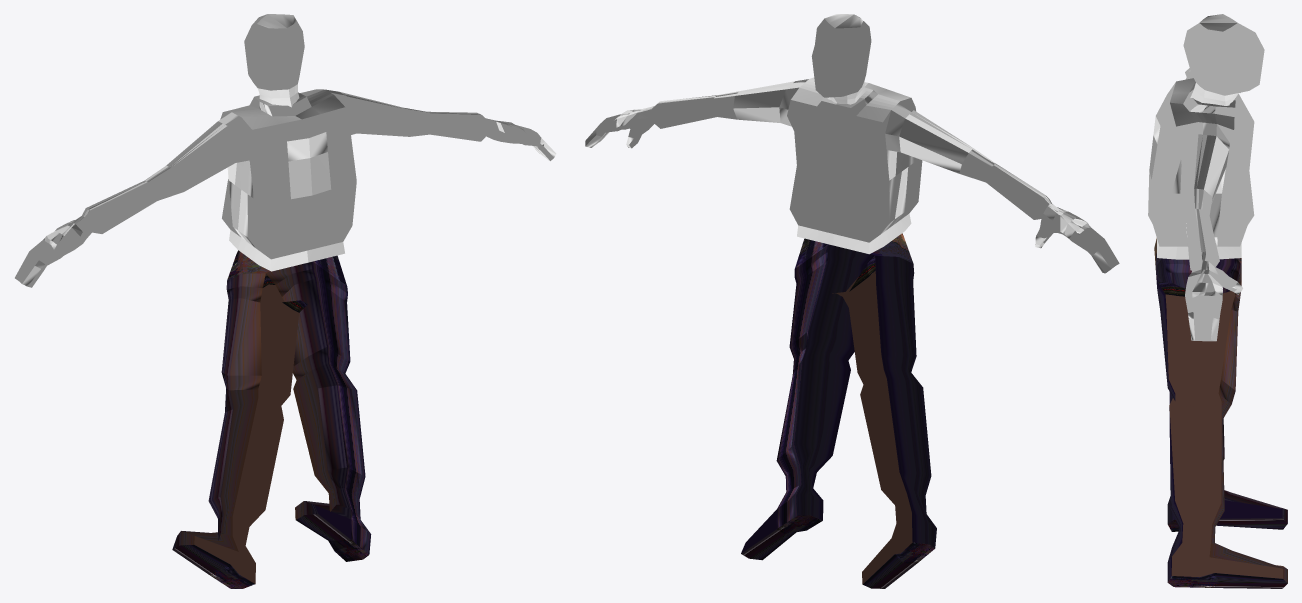
File: First_Test.glb
3 views of the same model, side by side, from view 1: azimuth 30°, elevation 25°; view 2: azimuth 150°, elevation 25°; view 3: azimuth 270°, elevation 25° (orthographic).
Visible parts, largest first — view 1: Legs, Torso, Head; view 2: Legs, Torso, Head; view 3: Legs, Torso, Head.
Part boxes in pixels (<box>): Legs: <box>172,250,371,588</box>; Torso: <box>15,89,556,287</box>; Head: <box>244,14,304,107</box>; Legs: <box>741,233,936,588</box>; Torso: <box>585,77,1119,273</box>; Head: <box>811,14,871,104</box>; Legs: <box>1154,238,1287,588</box>; Torso: <box>1148,68,1254,341</box>; Head: <box>1183,14,1264,105</box>.
Bounding box in the file's own units: 1.86 × 1.78 × 0.4243.
Materials: 1 (1 with a texture image).
